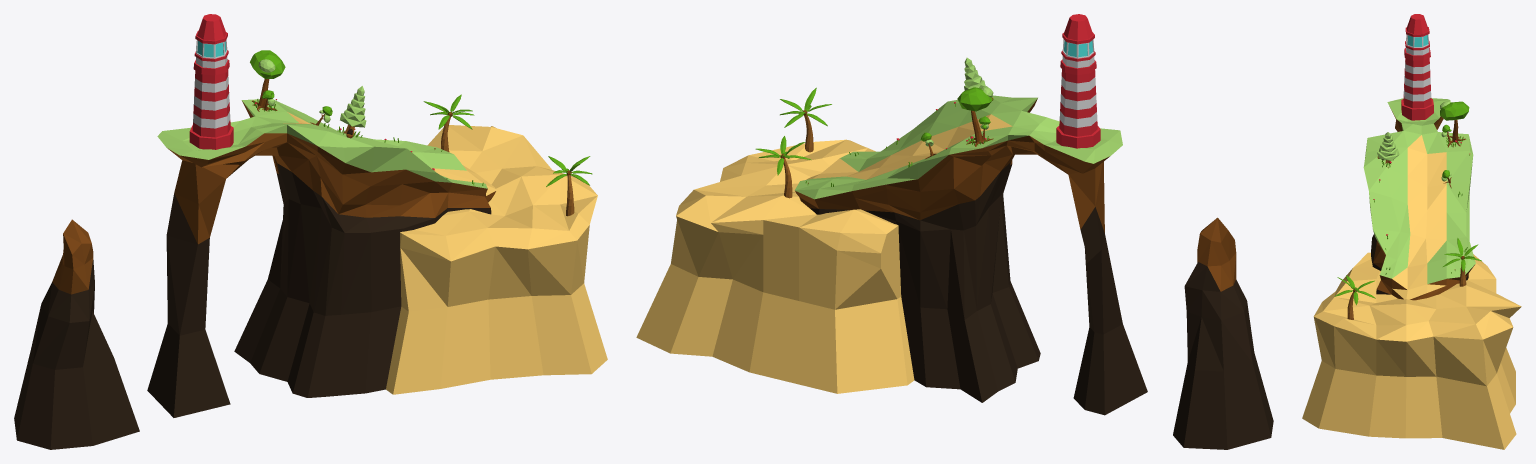
File: Island_A02_Model.fbx
3 renders of one model, left to right at view 1: azimuth 30°, elevation 25°; view 2: azimuth 150°, elevation 25°; view 3: azimuth 270°, elevation 25°, orthographic. The views are drawn at different scales.
Visible parts, largest first — view 1: Island_A01_Combi; view 2: Island_A01_Combi; view 3: Island_A01_Combi.
Boxes of the visible parts, box(x1,y1,x2,y2) form: Island_A01_Combi: box(14, 14, 607, 449); Island_A01_Combi: box(636, 14, 1273, 449); Island_A01_Combi: box(1302, 14, 1521, 449).
Bounding box in the file's own units: 85.17 × 52.4 × 36.28.
